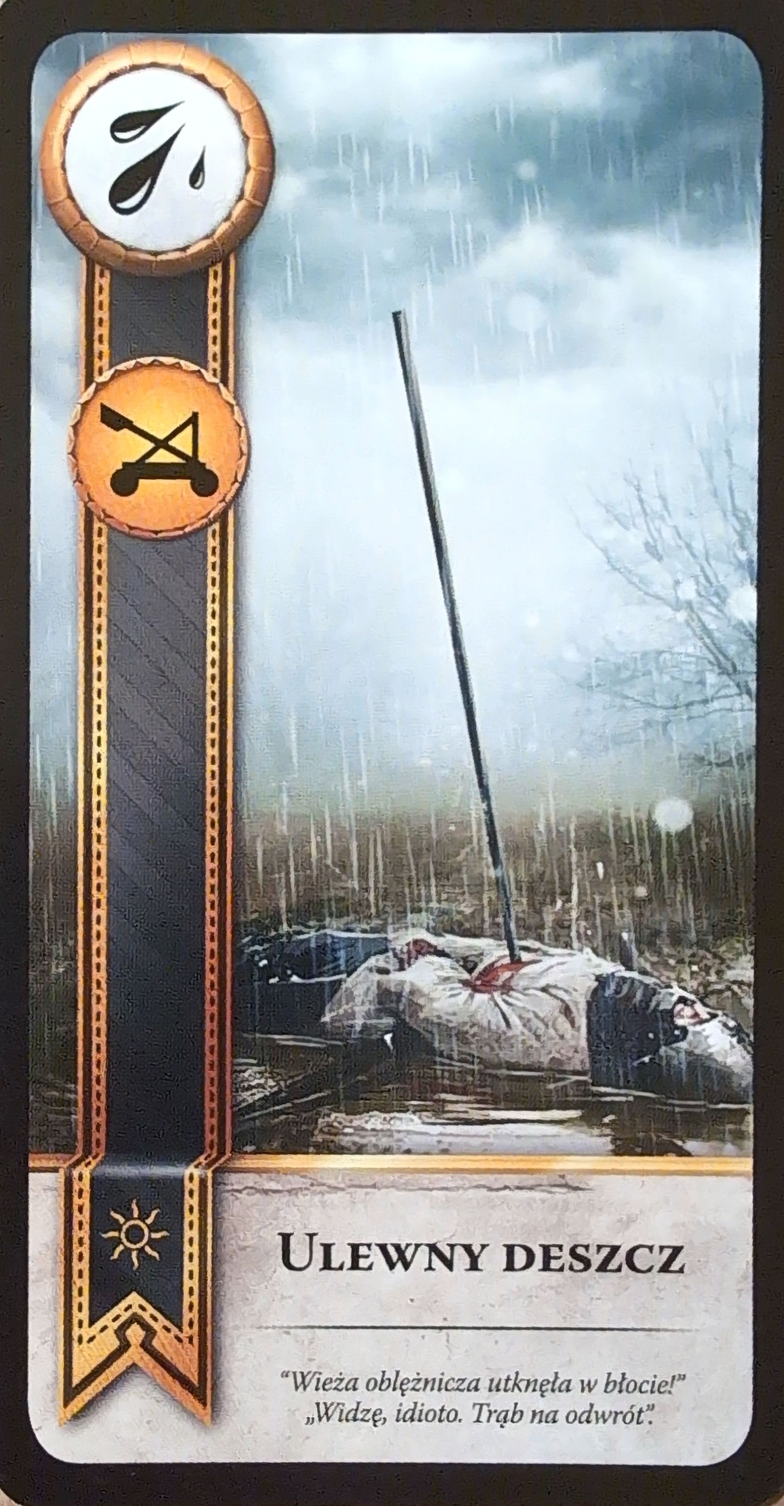deszcz: (39, 40, 277, 274)
katapulta: (64, 356, 249, 541)
